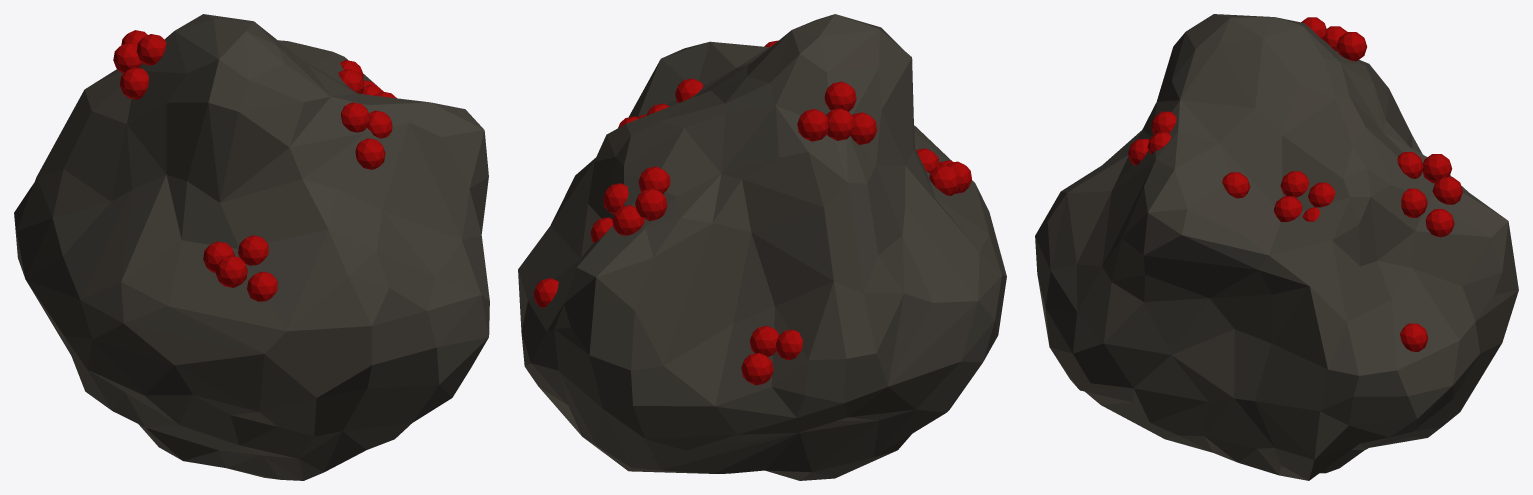
Rendered from stone2_seaurchins.obj.
3 views of the same model, side by side, from view 1: azimuth 30°, elevation 25°; view 2: azimuth 150°, elevation 25°; view 3: azimuth 270°, elevation 25° (orthographic). The views are drawn at different scales.
Parts seen in each view (by area): view 1: Sphere, Icosphere.001_Icosphere; view 2: Sphere, Icosphere.001_Icosphere; view 3: Sphere, Icosphere.001_Icosphere.
Boxes of the visible parts, box(x1,y1,x2,y2) form: Sphere: box(14, 14, 489, 480); Icosphere.001_Icosphere: box(113, 30, 396, 301); Sphere: box(518, 14, 1006, 480); Icosphere.001_Icosphere: box(533, 40, 971, 385); Sphere: box(1035, 14, 1518, 480); Icosphere.001_Icosphere: box(1128, 17, 1462, 351).
Bounding box in the file's own units: 1.74 × 1.86 × 1.94.
